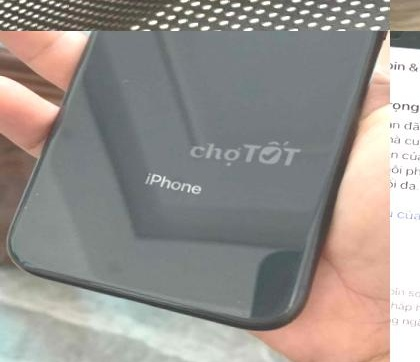scratch: (5, 180, 50, 214), (228, 293, 271, 320), (111, 73, 136, 89), (53, 156, 70, 171)
